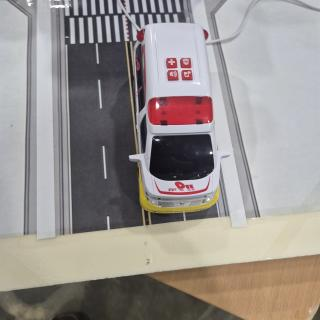Ambulance: (129, 23, 230, 213)
